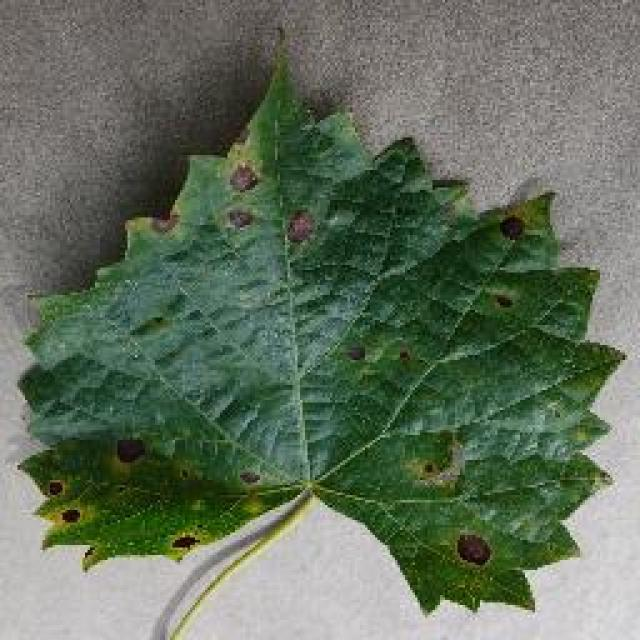Grape___Black_rot: (10, 29, 629, 638)
